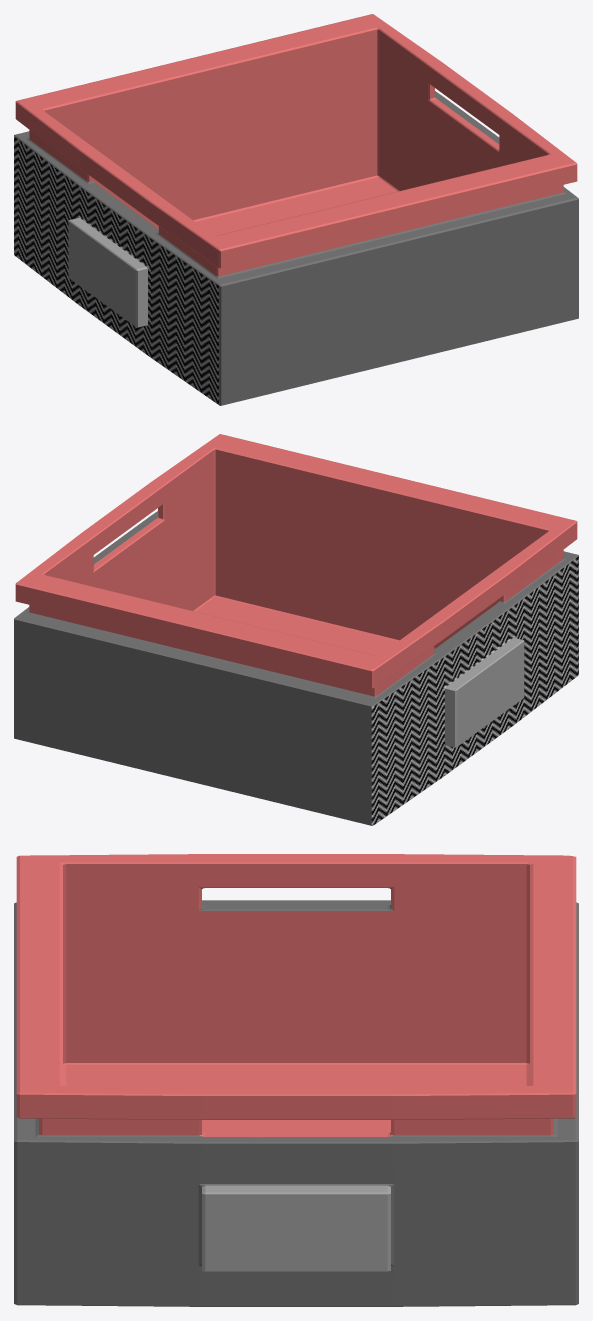
3 renders of one model, top to bottom at view 1: azimuth 30°, elevation 25°; view 2: azimuth 150°, elevation 25°; view 3: azimuth 270°, elevation 25°, orthographic. The views are drawn at different scales.
Parts seen in each view (by area): view 1: SM_Box; view 2: SM_Box; view 3: SM_Box.
Boxes of the visible parts, <box> form: SM_Box: <box>14,14,578,405</box>; SM_Box: <box>14,434,578,825</box>; SM_Box: <box>14,854,578,1306</box>.
Size of the model in its own units: 89.9 by 83.09 by 34.4.
1 material, 1 textured.
